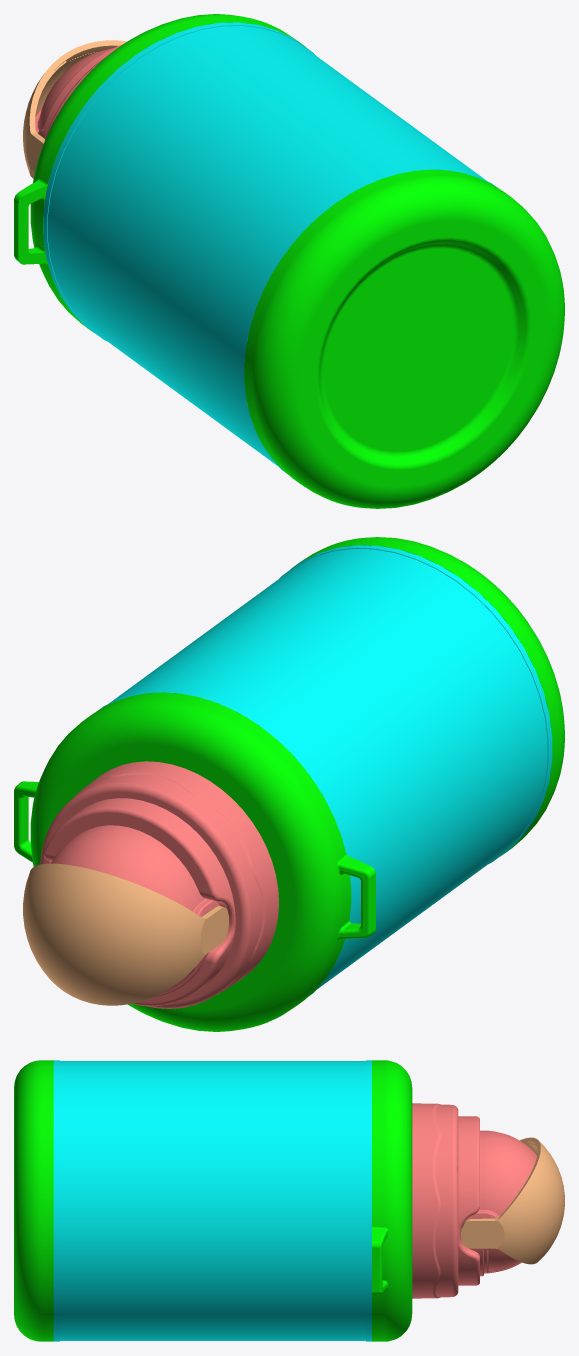
File: Custom Blow-Moulded Bottle.gltf
3 renders of one model, top to bottom at view 1: azimuth 30°, elevation 25°; view 2: azimuth 150°, elevation 25°; view 3: azimuth 270°, elevation 25°, orthographic. The views are drawn at different scales.
Visible parts, largest first — view 1: Bottle (2.19.4), BC Bottle (2.19.4), TC Bottle (2.19.4), Cap (2.19.4), Lid (2.19.4); view 2: Bottle (2.19.4), TC Bottle (2.19.4), Lid (2.19.4), Cap (2.19.4), BC Bottle (2.19.4); view 3: Bottle (2.19.4), Lid (2.19.4), TC Bottle (2.19.4), BC Bottle (2.19.4), Cap (2.19.4).
Boxes of the visible parts, x1=… form: Bottle (2.19.4): x1=43, y1=22, x2=495, y2=473; BC Bottle (2.19.4): x1=244, y1=169, x2=564, y2=508; TC Bottle (2.19.4): x1=14, y1=14, x2=305, y2=332; Cap (2.19.4): x1=23, y1=40, x2=127, y2=178; Lid (2.19.4): x1=35, y1=45, x2=121, y2=139; Bottle (2.19.4): x1=98, y1=545, x2=552, y2=995; TC Bottle (2.19.4): x1=14, y1=692, x2=375, y2=1031; Lid (2.19.4): x1=40, y1=761, x2=278, y2=1008; Cap (2.19.4): x1=23, y1=863, x2=228, y2=1005; BC Bottle (2.19.4): x1=290, y1=537, x2=564, y2=856; Bottle (2.19.4): x1=53, y1=1060, x2=371, y2=1341; Lid (2.19.4): x1=412, y1=1103, x2=536, y2=1298; TC Bottle (2.19.4): x1=372, y1=1060, x2=412, y2=1341; BC Bottle (2.19.4): x1=14, y1=1060, x2=53, y2=1341; Cap (2.19.4): x1=461, y1=1137, x2=564, y2=1264.
Size of the model in its own units: 0.1066 by 0.092 by 0.18.
